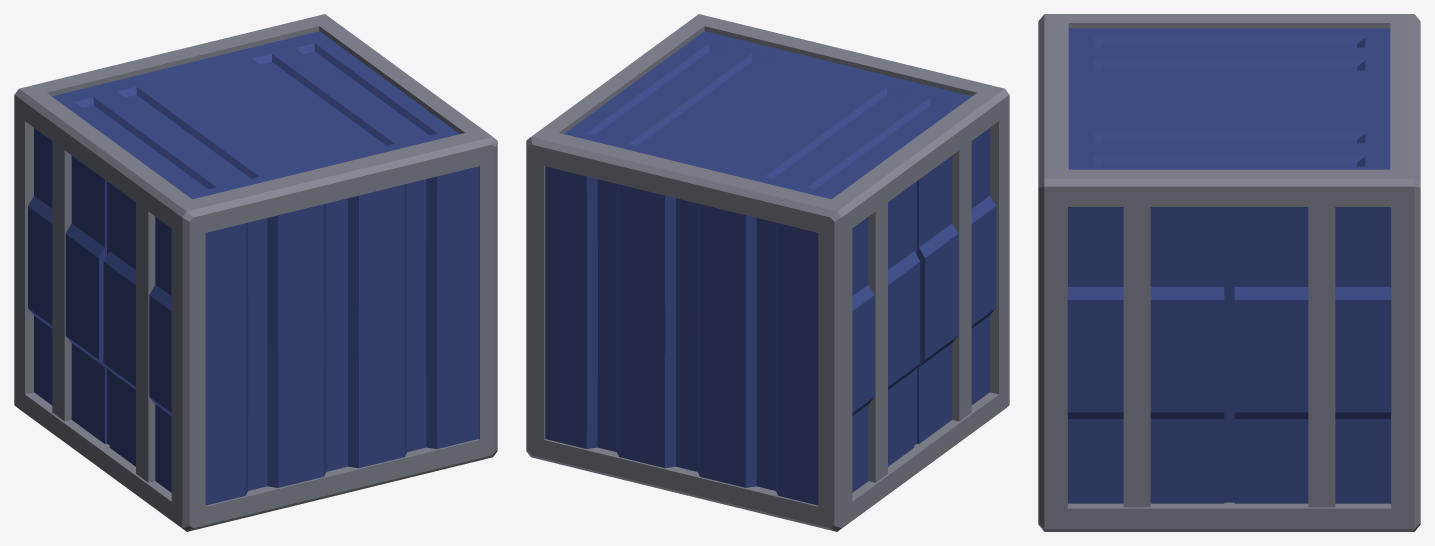
File: container-small.glb
3 renders of one model, left to right at view 1: azimuth 30°, elevation 25°; view 2: azimuth 150°, elevation 25°; view 3: azimuth 270°, elevation 25°, orthographic. The views are drawn at different scales.
Parts seen in each view (by area): view 1: Container_Small; view 2: Container_Small; view 3: Container_Small.
Part boxes in pixels (bbox=[...]): Container_Small: bbox=[14, 14, 497, 531]; Container_Small: bbox=[526, 14, 1009, 531]; Container_Small: bbox=[1038, 14, 1420, 531].
Size of the model in its own units: 2.19 by 2.13 by 2.09.
